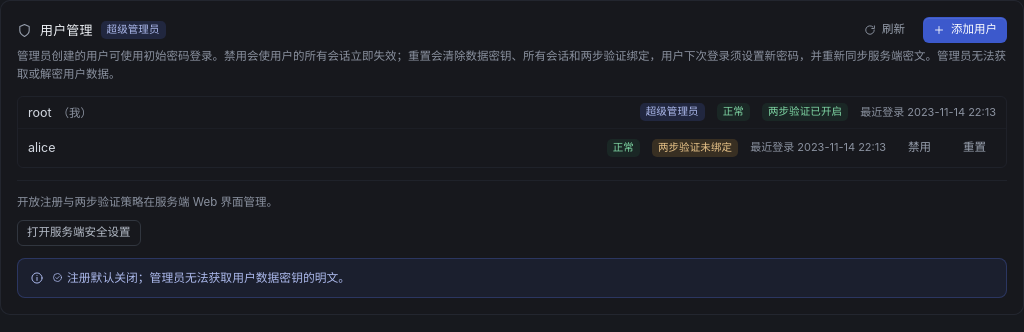
Test: desktop account card superadmin › does not execute an old admin confirmation after the account switches
This screenshot has width=1024, height=332.
Click the button "禁用". click: (920, 148)
box: [898,135,941,161]
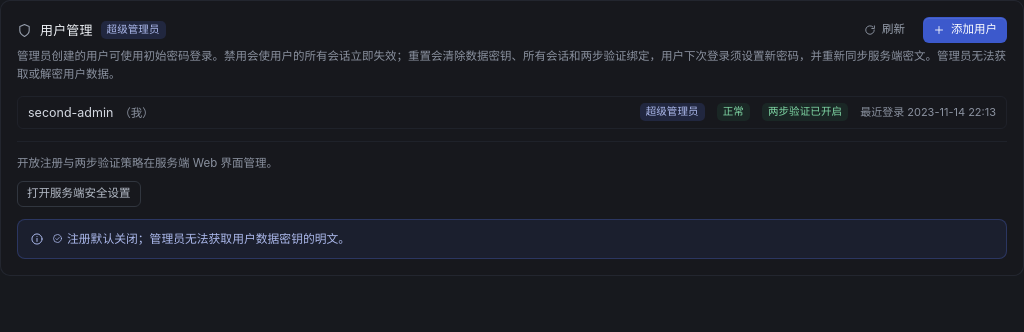
Now the text "alice" is gone
